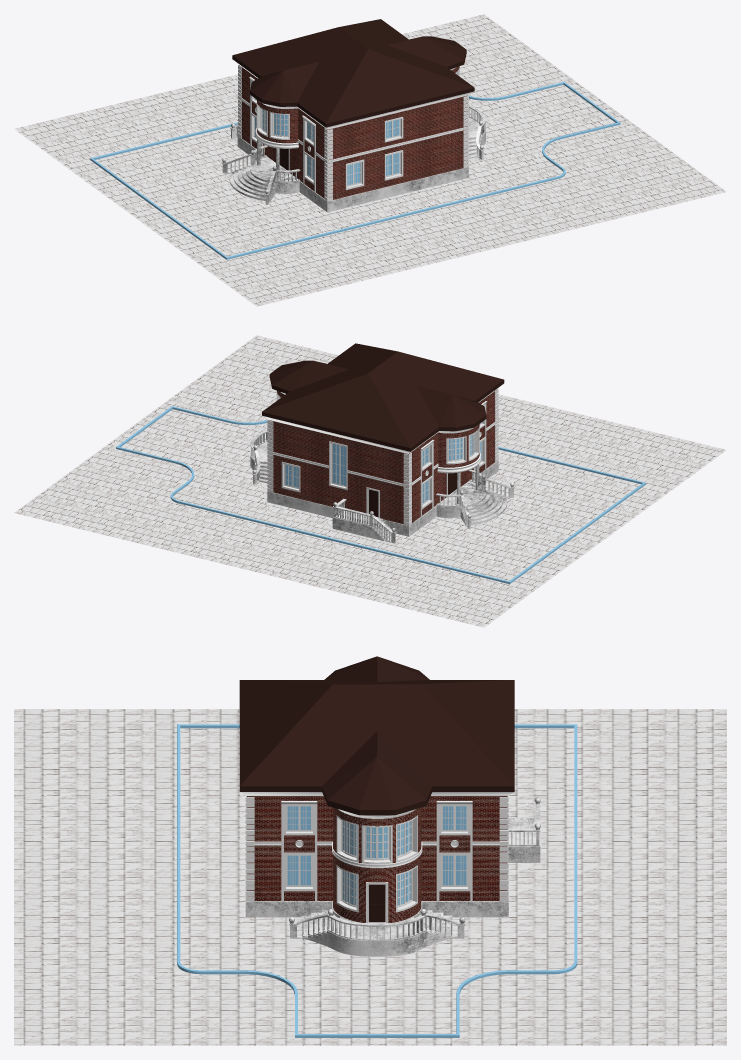
The model's file is dom_k-174.fbx.
3 views of the same model, one above another, from view 1: azimuth 30°, elevation 25°; view 2: azimuth 150°, elevation 25°; view 3: azimuth 270°, elevation 25° (orthographic). The views are drawn at different scales.
Visible parts, largest first — view 1: 008_plitka, 006_roof, 003_walls, 001_windows, 004_stairs, 007_border, 005_glasses; view 2: 008_plitka, 006_roof, 003_walls, 004_stairs, 001_windows, 007_border, 005_glasses, 002_doors; view 3: 008_plitka, 006_roof, 003_walls, 001_windows, 004_stairs, 007_border, 005_glasses, 002_doors.
Boxes of the visible parts, bbox=[...] form: 008_plitka: bbox=[14, 14, 726, 306]; 006_roof: bbox=[232, 19, 474, 127]; 003_walls: bbox=[239, 65, 467, 199]; 001_windows: bbox=[234, 60, 473, 201]; 004_stairs: bbox=[221, 105, 485, 212]; 007_border: bbox=[90, 81, 620, 259]; 005_glasses: bbox=[255, 98, 399, 185]; 008_plitka: bbox=[14, 335, 726, 627]; 006_roof: bbox=[262, 343, 504, 451]; 003_walls: bbox=[268, 389, 497, 524]; 004_stairs: bbox=[250, 429, 514, 543]; 001_windows: bbox=[263, 385, 501, 525]; 007_border: bbox=[116, 406, 645, 583]; 005_glasses: bbox=[285, 422, 481, 502]; 002_doors: bbox=[366, 473, 456, 518]; 008_plitka: bbox=[14, 709, 726, 1045]; 006_roof: bbox=[239, 656, 514, 815]; 003_walls: bbox=[246, 796, 507, 922]; 001_windows: bbox=[240, 792, 513, 912]; 004_stairs: bbox=[245, 797, 540, 956]; 007_border: bbox=[177, 724, 577, 1037]; 005_glasses: bbox=[287, 806, 466, 905]; 002_doors: bbox=[366, 882, 388, 923].
Bounding box in the file's own units: 3921 × 991 × 3507.
Materials: 6 (3 with a texture image).
